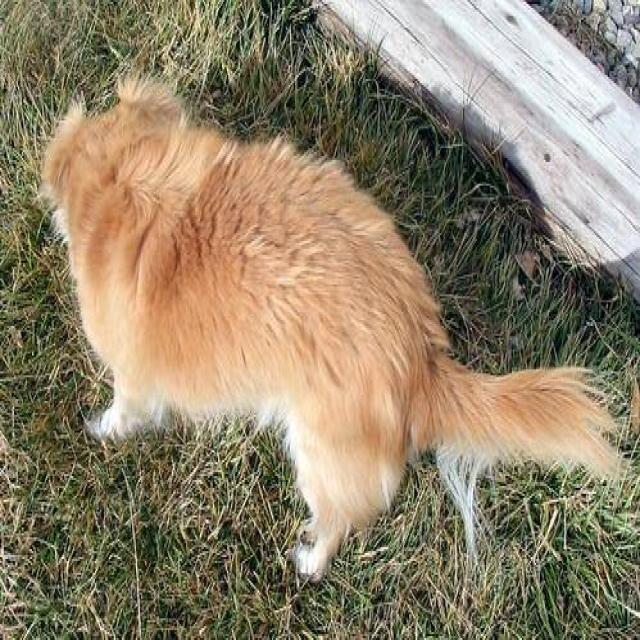dog: (38, 69, 631, 585)
